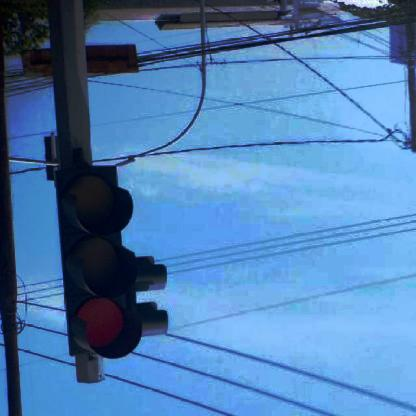Traffic Light -Red-: (54, 168, 143, 359)
